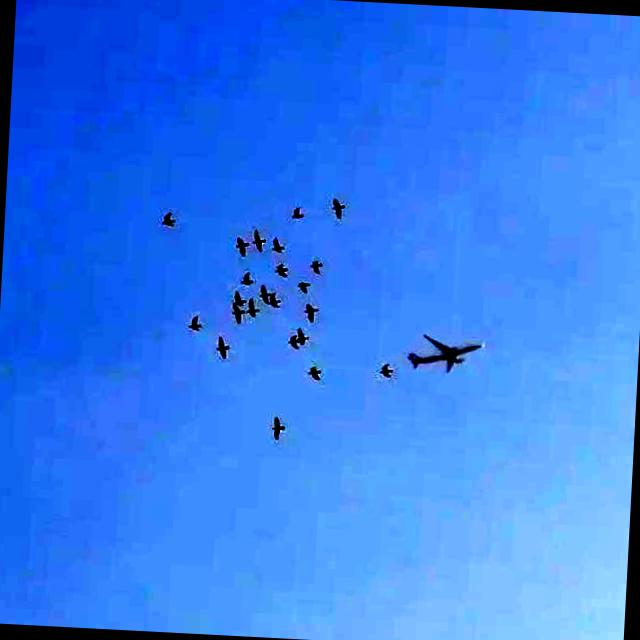bird: (209, 329, 238, 366), (261, 414, 293, 446), (178, 308, 212, 337), (298, 300, 324, 326), (268, 233, 294, 257), (226, 232, 250, 256), (156, 206, 178, 232), (290, 277, 314, 300), (250, 224, 268, 254), (307, 254, 329, 278), (328, 195, 348, 221), (376, 361, 397, 385), (304, 364, 327, 384), (224, 305, 247, 324), (236, 267, 256, 288), (297, 327, 316, 349), (280, 332, 300, 352), (244, 298, 260, 322), (270, 262, 291, 280), (268, 290, 282, 312), (260, 282, 272, 306), (290, 204, 304, 224), (232, 292, 246, 310)
